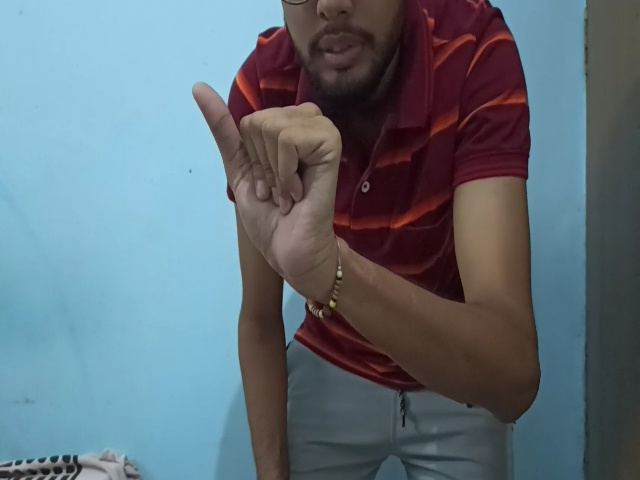A: (191, 82, 338, 300)
